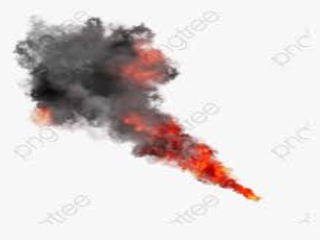fire: (169, 141, 262, 205)
smoke: (22, 18, 158, 146)
